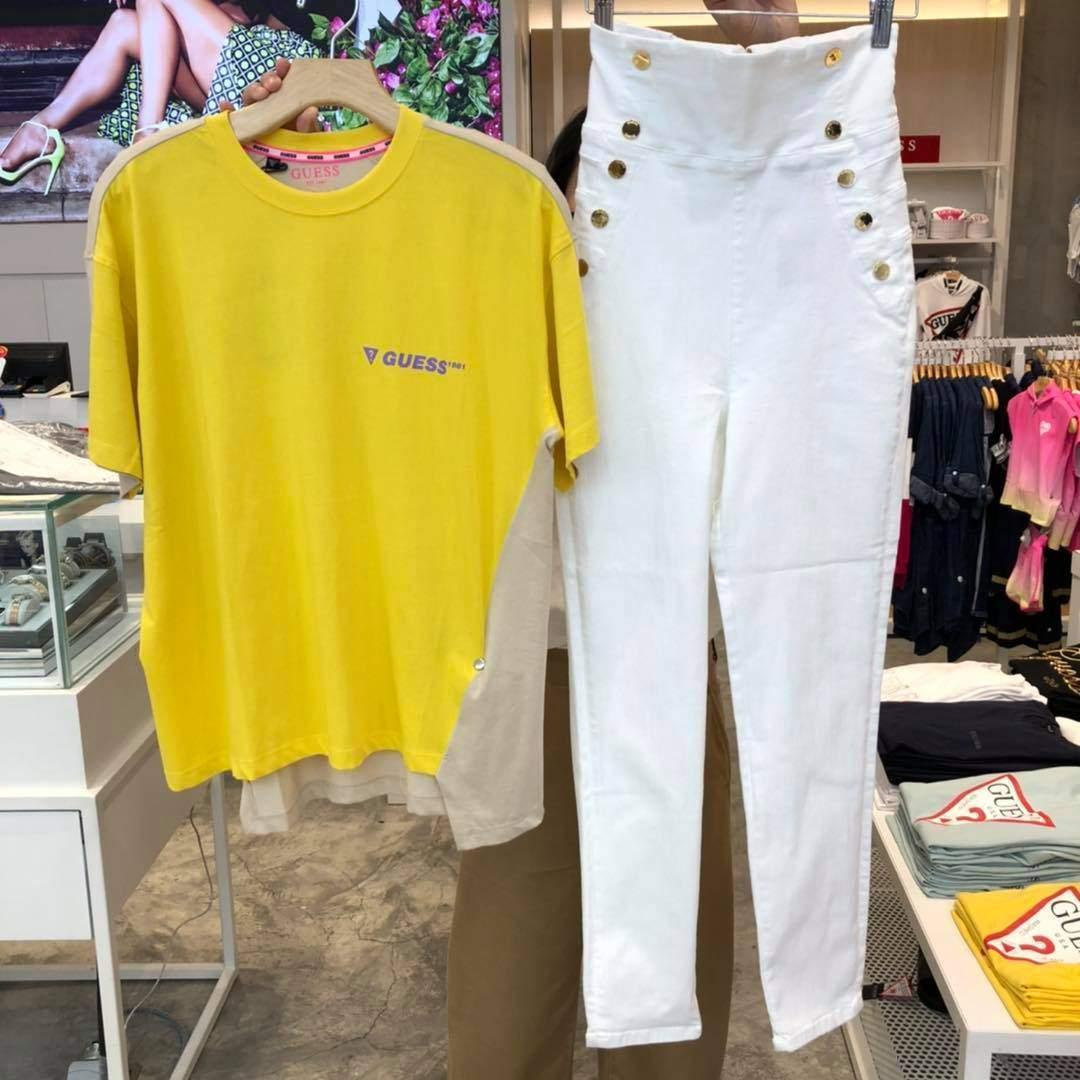Tshirt: (96, 108, 575, 792)
pants: (575, 18, 925, 1048)
